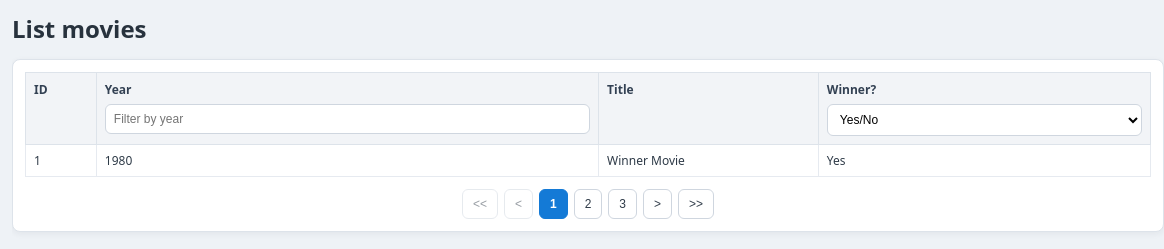
Scenario: MovieListPage › applies year and winner filters
This screenshot has width=1164, height=249.
Type "1990" into the number field with placeholder "Filter by year" at (347, 119), box x1=105 y1=104 x2=590 y2=134
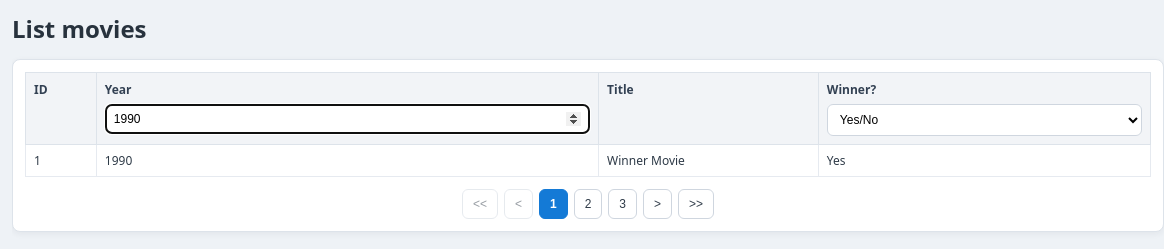
Select "No" in the dropdown showing "Yes/No" at (984, 120), box x1=827 y1=104 x2=1142 y2=136
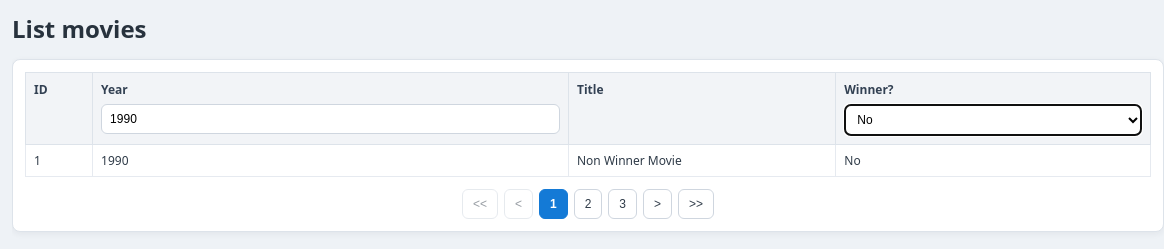
Expected: the text "Non Winner Movie" is shown, x1=568 y1=144 x2=836 y2=176
